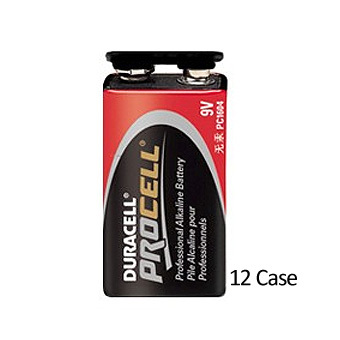9V: (93, 37, 233, 301)
